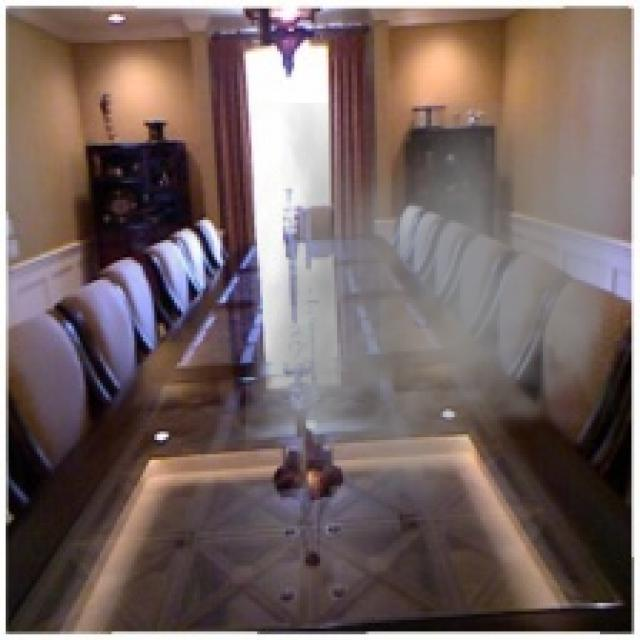smoke: (246, 103, 628, 514)
